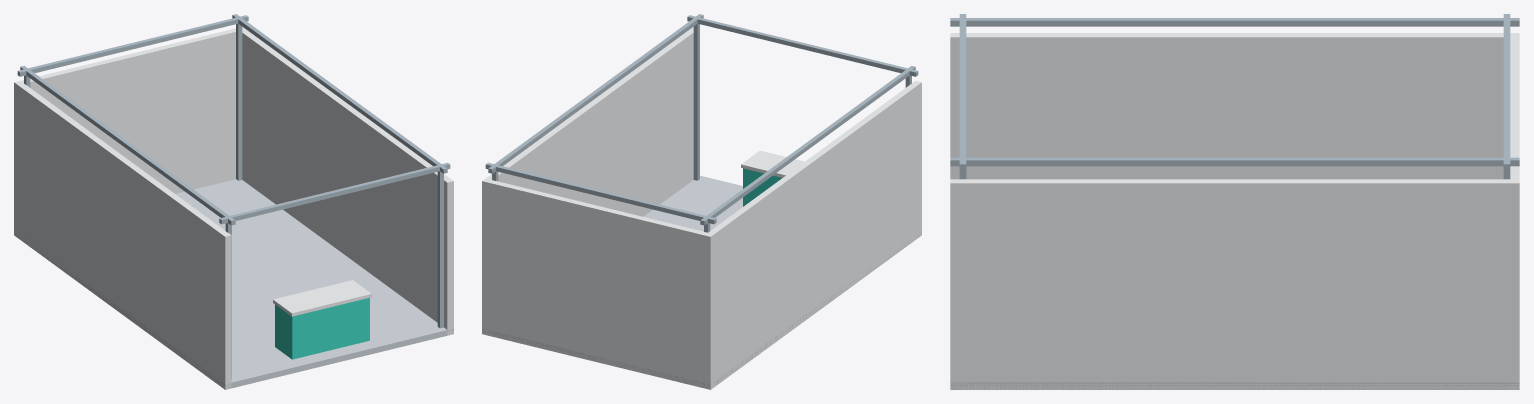
3 views of the same model, side by side, from view 1: azimuth 30°, elevation 25°; view 2: azimuth 150°, elevation 25°; view 3: azimuth 270°, elevation 25° (orthographic). The views are drawn at different scales.
Parts seen in each view (by area): view 1: Exhibition Booth Concept; view 2: Exhibition Booth Concept; view 3: Exhibition Booth Concept.
Part boxes in pixels (x1,y1,x2,y2): Exhibition Booth Concept: (14, 14, 453, 389); Exhibition Booth Concept: (482, 14, 921, 389); Exhibition Booth Concept: (950, 14, 1519, 389).
Size of the model in its own units: 5 by 3.49 by 8.
